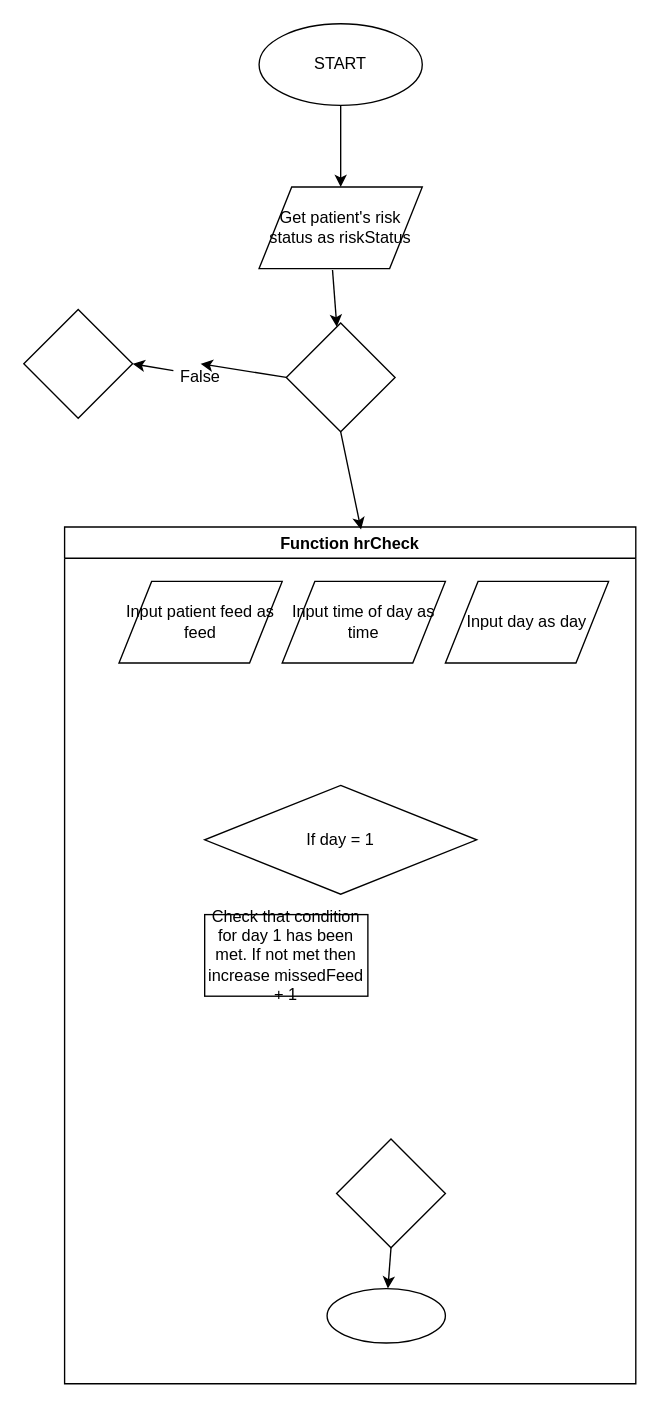
Some shapes in this 660 by 1408 pixel diagram are drawn without their labels. Here are the shapes that lost their labels. From the top down, the centre of each, then its label:
[77,363]: Else if riskStatus = LR
[340,377]: If riskStatus = HR
[390,1193]: If feed = requiredFeed
[385,1315]: Return
